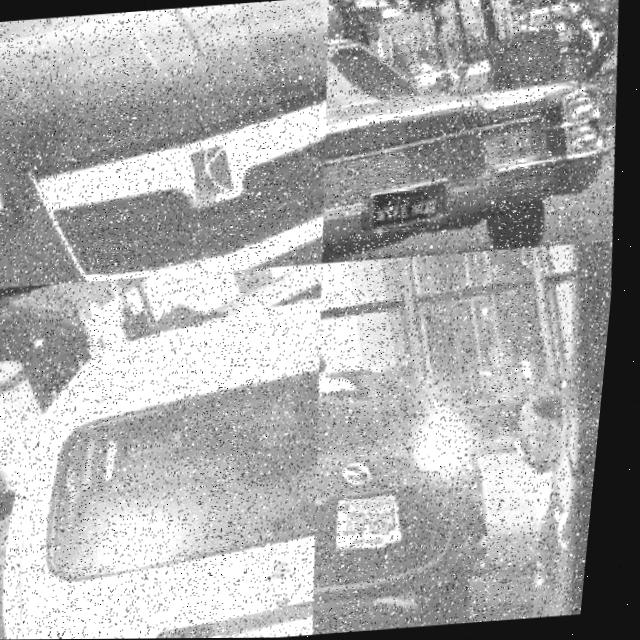LicensePlate: (223, 606, 327, 638), (333, 502, 399, 552), (366, 192, 431, 231)
